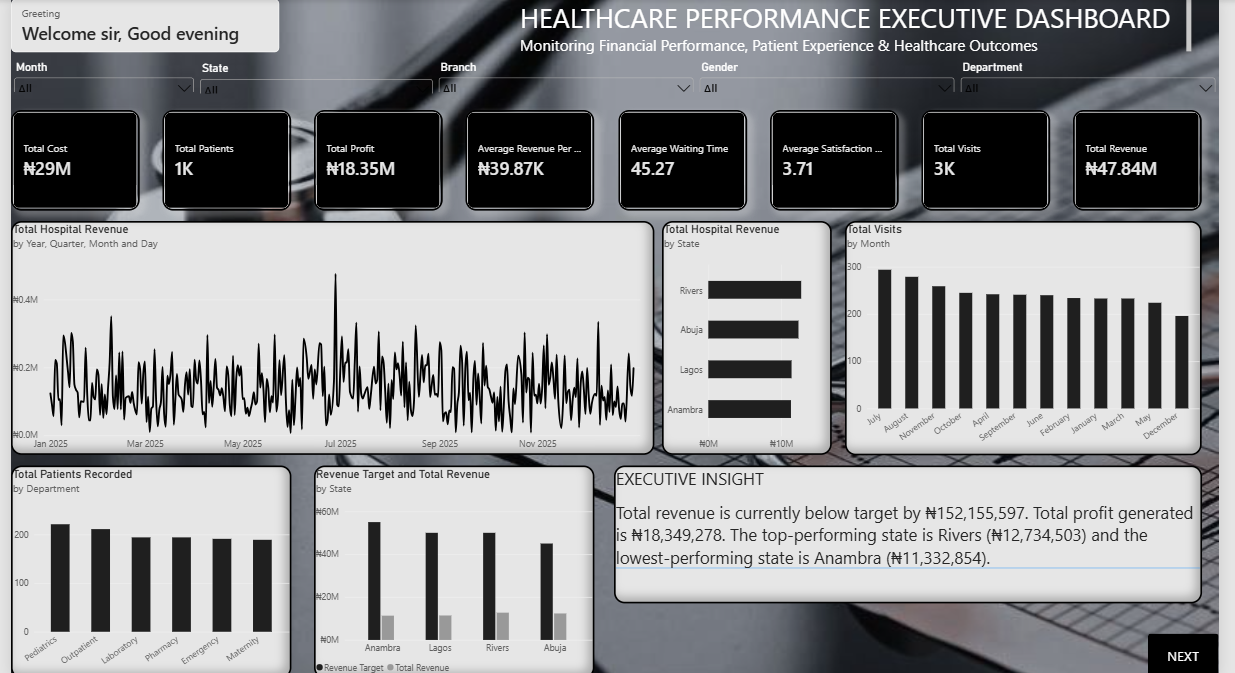

Layout of this report page (visuals, bound fields, positions):
{"tool":"powerbi","page":{"name":"Executive Dashboard","canvas":[1920,1080],"ordinal":0},"visuals":[{"type":"cardVisual","fields":{"Data":["Measures_Table.Total Patients"]},"box":[241.3,176.6,205,160],"z":0},{"type":"cardVisual","fields":{"Data":["Measures_Table.Total Visits"]},"box":[1447.9,176.6,205,160],"z":1},{"type":"cardVisual","fields":{"Data":["Measures_Table.Total Revenue"]},"box":[1688.8,176.6,205,160],"z":2},{"type":"cardVisual","fields":{"Data":["Measures_Table.Total Cost"]},"box":[0,176.6,205,160],"z":3},{"type":"cardVisual","fields":{"Data":["Measures_Table.Total Profit"]},"box":[482.6,176.6,205,160],"z":4},{"type":"cardVisual","fields":{"Data":["Measures_Table.Average Revenue Per Patient"]},"box":[724,176.6,205,160],"z":5},{"type":"cardVisual","fields":{"Data":["Measures_Table.Average Waiting Time"]},"box":[965.3,176.6,205,160],"z":6},{"type":"cardVisual","fields":{"Data":["Measures_Table.Average Satisfaction"]},"box":[1206.6,176.6,205,160],"z":7},{"type":"cardVisual","fields":{"Data":["Measures_Table.Greeting"]},"box":[0,0,427.1,85.9],"z":8},{"type":"lineChart","fields":{"Category":["Date_Table.Date.Variation.Date Hierarchy.Year"],"Y":["Measures_Table.Total Revenue"]},"box":[0,353.1,1023.6,372.2],"z":9},{"type":"clusteredBarChart","fields":{"Category":["Patient_Visits.State"],"Y":["Measures_Table.Total Revenue"]},"box":[1035.5,353.1,270,372.2],"z":10},{"type":"clusteredColumnChart","fields":{"Category":["Patient_Visits.Department"],"Y":["Measures_Table.Total Patients"]},"box":[0,741.2,446.2,338.8],"z":11},{"type":"clusteredColumnChart","fields":{"Category":["State_Targets.State"],"Y":["Measures_Table.Revenue Target","Measures_Table.Total Revenue"]},"box":[482,742,446,338.8],"z":12},{"type":"clusteredColumnChart","fields":{"Category":["Date_Table.Month"],"Y":["Measures_Table.Total Visits"]},"box":[1327.5,352.5,567.5,372.5],"z":13},{"type":"slicer","fields":{"Values":["Date_Table.Month"]},"box":[0,97.8,295.9,50.1],"z":16},{"type":"slicer","fields":{"Values":["Patient_Visits.State"]},"box":[295.9,100.2,379.4,50.1],"z":17},{"type":"slicer","fields":{"Values":["Patient_Visits.Branch"]},"box":[675.2,97.8,415,50.1],"z":18},{"type":"slicer","fields":{"Values":["Patient_Visits.Department"]},"box":[1505.5,97.8,415.1,50.1],"z":19},{"type":"slicer","fields":{"Values":["Patient_Visits.Gender"]},"box":[1090.4,97.8,415,50],"z":20},{"type":"textbox","box":[959.1,742,935.3,219.5],"z":21},{"type":"textbox","box":[808.8,0,1068.9,85.9],"z":22},{"type":"actionButton","box":[1808.5,1009.2,112.1,71.6],"z":23}]}

Visuals, with their boxes on the page's 1920x1080 design canvas (x1, y1, x2, y2). These are canvas units, not pixel positions in the 1235x673 screenshot, which may show the page scaled, cropped or inside an application window:
cardVisual - Measures_Table.Total Patients: (x1=241, y1=177, x2=446, y2=337)
cardVisual - Measures_Table.Total Visits: (x1=1448, y1=177, x2=1653, y2=337)
cardVisual - Measures_Table.Total Revenue: (x1=1689, y1=177, x2=1894, y2=337)
cardVisual - Measures_Table.Total Cost: (x1=0, y1=177, x2=205, y2=337)
cardVisual - Measures_Table.Total Profit: (x1=483, y1=177, x2=688, y2=337)
cardVisual - Measures_Table.Average Revenue Per Patient: (x1=724, y1=177, x2=929, y2=337)
cardVisual - Measures_Table.Average Waiting Time: (x1=965, y1=177, x2=1170, y2=337)
cardVisual - Measures_Table.Average Satisfaction: (x1=1207, y1=177, x2=1412, y2=337)
cardVisual - Measures_Table.Greeting: (x1=0, y1=0, x2=427, y2=86)
lineChart - Date_Table.Date.Variation.Date Hierarchy.Year x Measures_Table.Total Revenue: (x1=0, y1=353, x2=1024, y2=725)
clusteredBarChart - Patient_Visits.State x Measures_Table.Total Revenue: (x1=1036, y1=353, x2=1306, y2=725)
clusteredColumnChart - Patient_Visits.Department x Measures_Table.Total Patients: (x1=0, y1=741, x2=446, y2=1080)
clusteredColumnChart - State_Targets.State x Measures_Table.Revenue Target: (x1=482, y1=742, x2=928, y2=1081)
clusteredColumnChart - Date_Table.Month x Measures_Table.Total Visits: (x1=1328, y1=352, x2=1895, y2=725)
slicer - Date_Table.Month: (x1=0, y1=98, x2=296, y2=148)
slicer - Patient_Visits.State: (x1=296, y1=100, x2=675, y2=150)
slicer - Patient_Visits.Branch: (x1=675, y1=98, x2=1090, y2=148)
slicer - Patient_Visits.Department: (x1=1506, y1=98, x2=1921, y2=148)
slicer - Patient_Visits.Gender: (x1=1090, y1=98, x2=1505, y2=148)
textbox: (x1=959, y1=742, x2=1894, y2=962)
textbox: (x1=809, y1=0, x2=1878, y2=86)
actionButton: (x1=1808, y1=1009, x2=1921, y2=1081)
